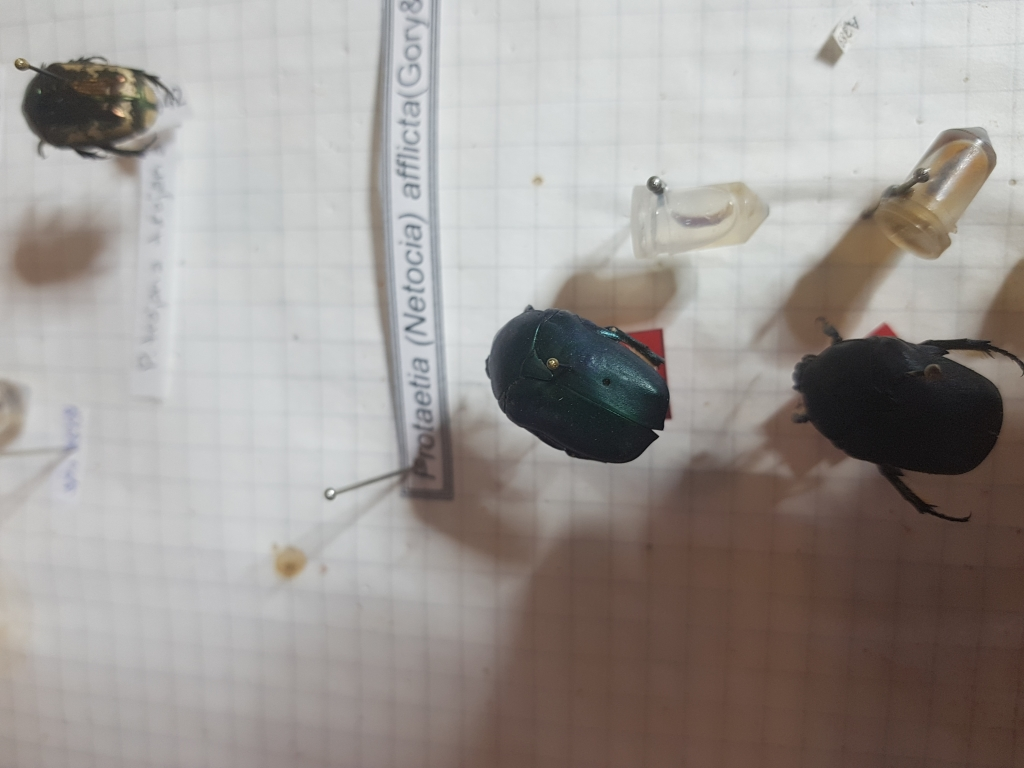Protaetia_afflicta: (773, 301, 1024, 522), (473, 300, 678, 471)
